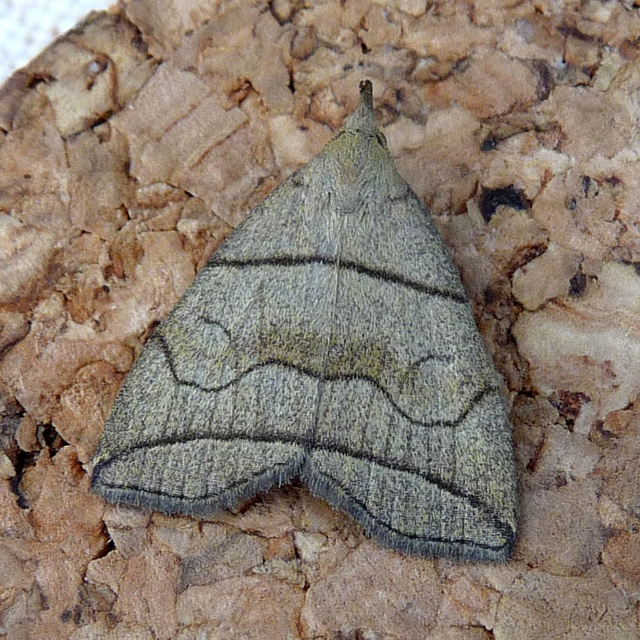Moths and butterflies: (88, 77, 526, 565)
